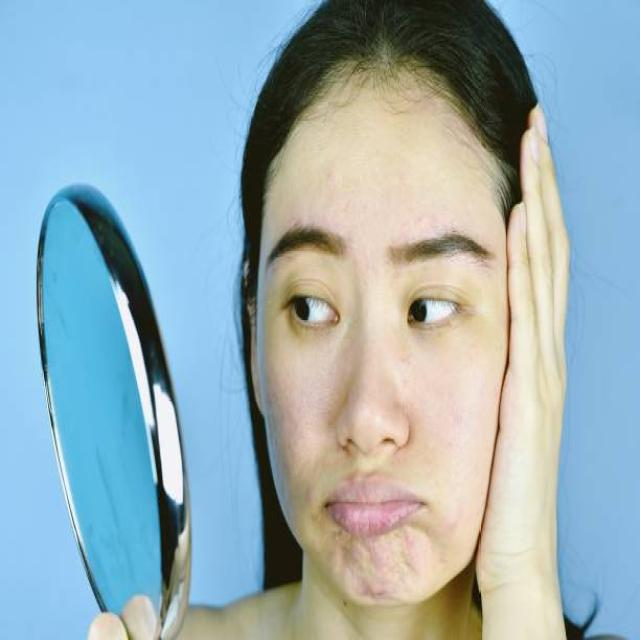Dry-Skin: (318, 149, 436, 234), (421, 342, 492, 475), (270, 345, 328, 483)
